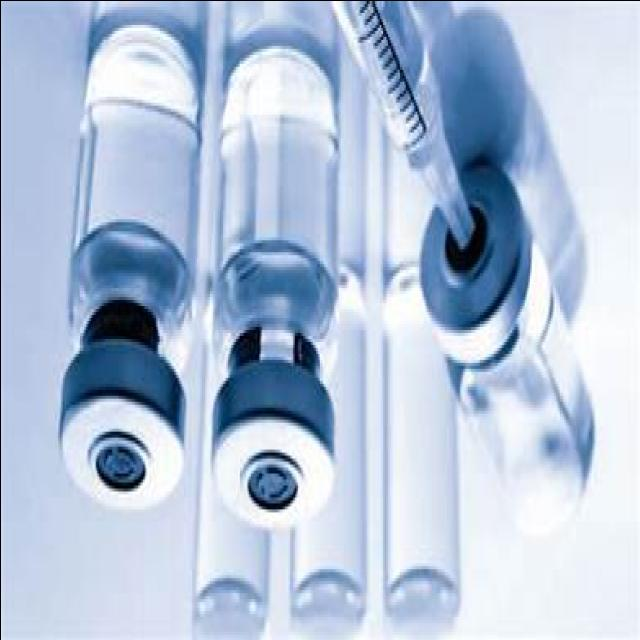vial: (212, 381, 339, 545), (54, 379, 178, 524), (402, 206, 526, 332)
